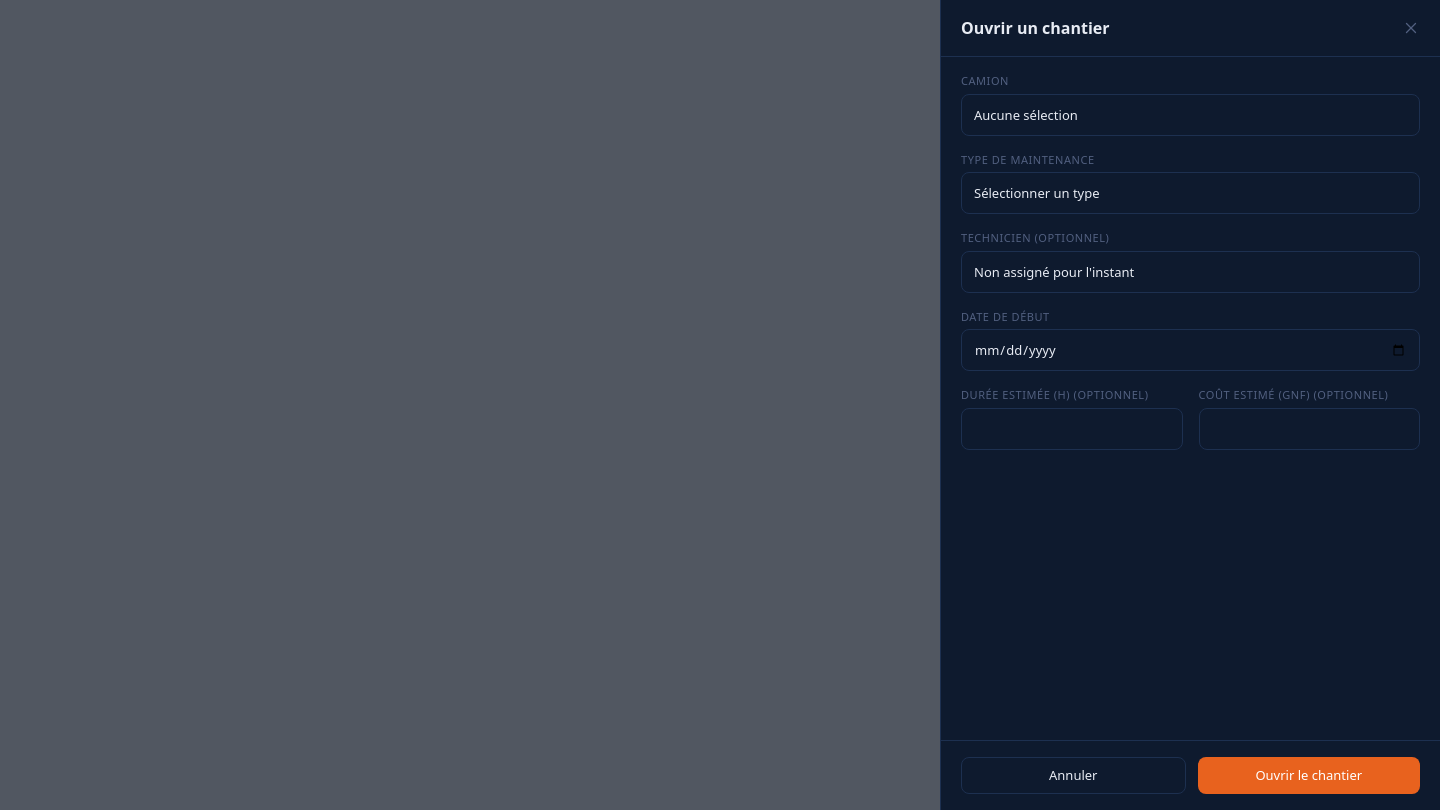
Test: NewMaintenanceDrawer › when open › validation › shows required errors when submitting an empty form
Click the button "Ouvrir le chantier". click: x=1309, y=775
box: 1198,756 -> 1420,794
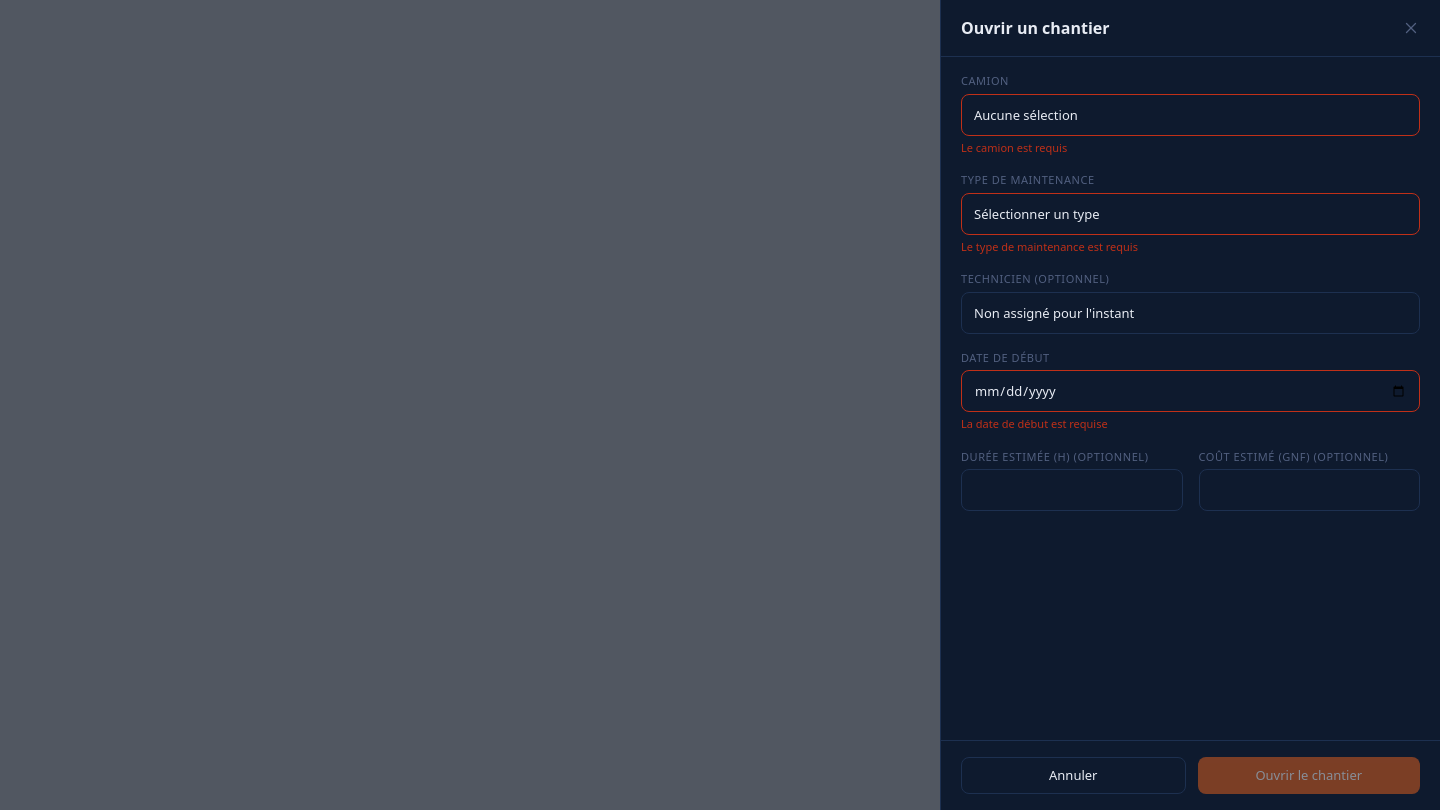
Now the text "Le camion est requis" is shown, box 961,140 -> 1067,154
Now the text "Le type de maintenance est requis" is shown, box 961,238 -> 1138,254
Now the text "La date de début est requise" is shown, box 961,416 -> 1108,431
